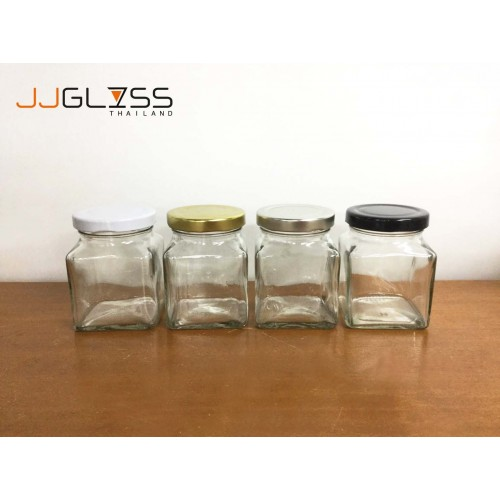glass_bottle: (63, 202, 167, 335), (340, 198, 439, 332), (251, 195, 345, 329), (160, 201, 252, 330)
